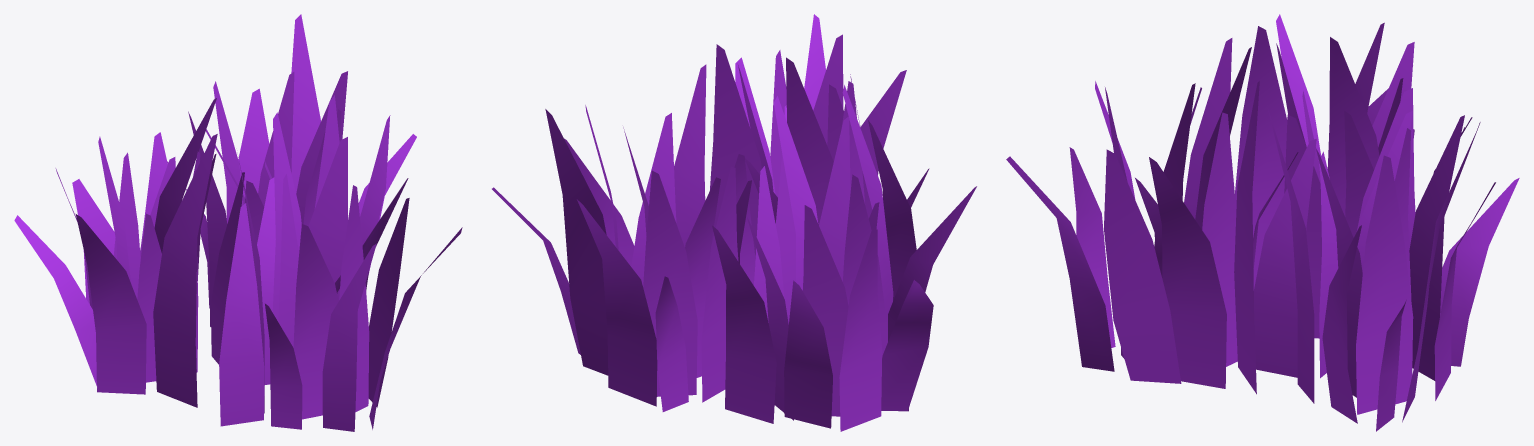
Rendered from Grass01.fbx.
The picture shows the model from 3 angles, left to right: view 1: azimuth 30°, elevation 25°; view 2: azimuth 150°, elevation 25°; view 3: azimuth 270°, elevation 25°; orthographic projection. The views are drawn at different scales.
Visible parts, largest first — view 1: Grass01_LOD0; view 2: Grass01_LOD0; view 3: Grass01_LOD0.
Part boxes in pixels (x1,y1,x2,y2): Grass01_LOD0: (14, 14, 462, 431); Grass01_LOD0: (492, 14, 976, 431); Grass01_LOD0: (1006, 14, 1519, 431).
Size of what is drawn, in the model's own units: 36.77 by 23.65 by 35.7.
